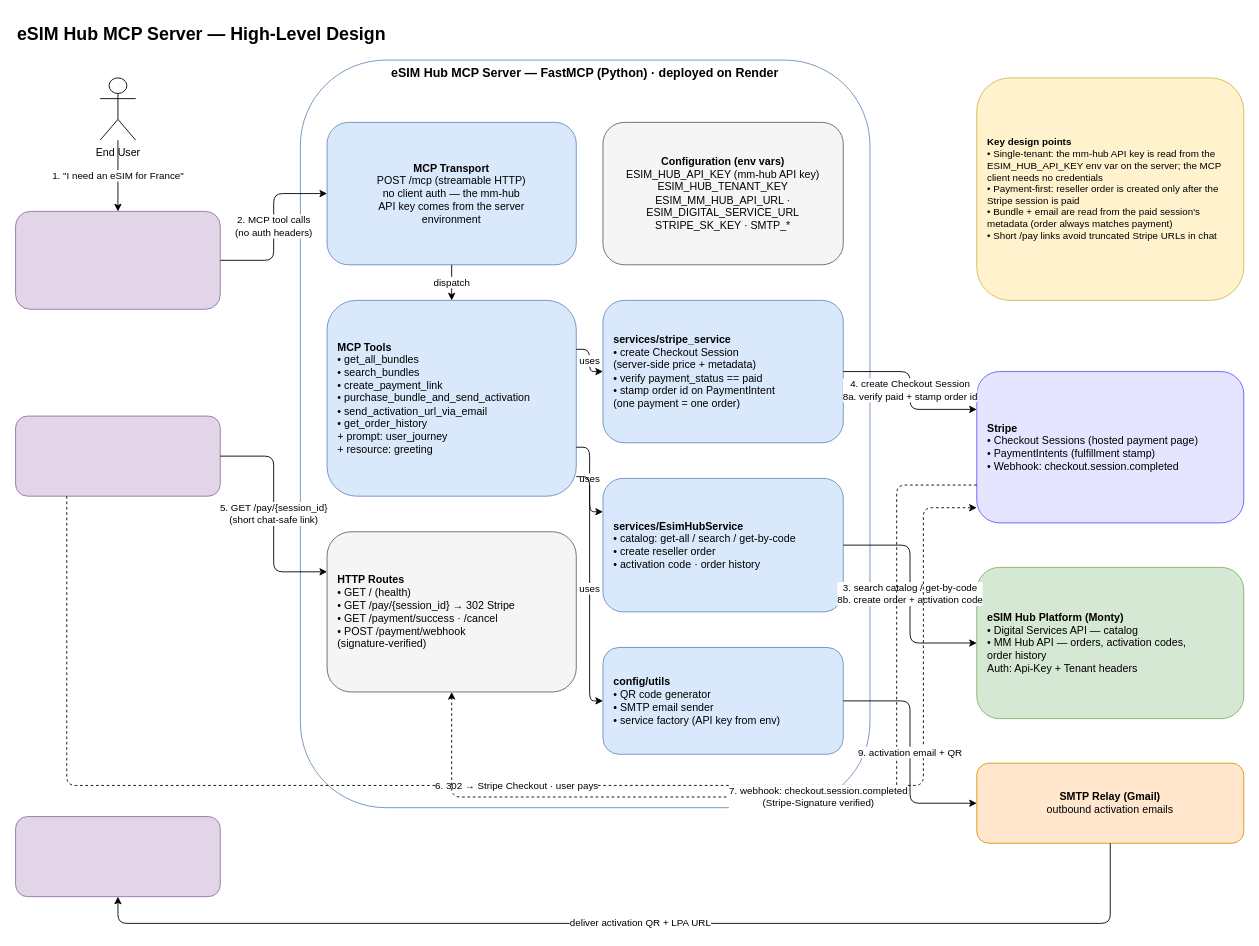
Some shapes in this 1259 by 946 pixel diagram are drawn without their labels. Each missing label, with the centre of its shape:
"Claude Desktop / claude.ai MCP client (custom connector) no credentials required" goes at pixel 117 259.
"User's Browser opens short payment link, pays on Stripe Checkout" goes at pixel 117 455.
"User's Email Inbox activation QR code + LPA activation URL" goes at pixel 117 856.
